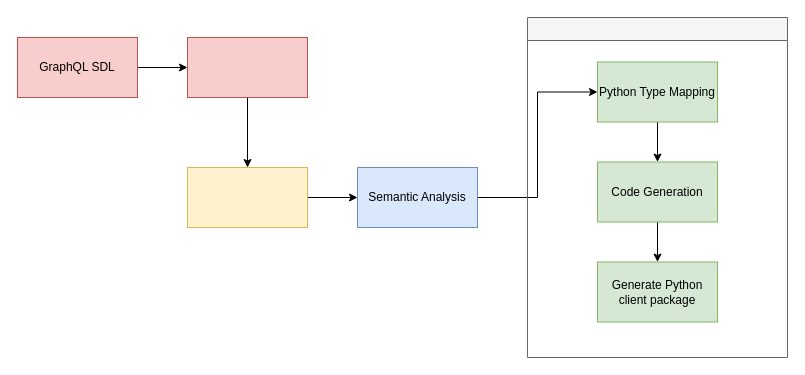
Image size: 805x375. Some labels were removed from this diagram. Here are the shapes that lost their labels. From the top down, the centre of each, then its label:
At pixel 247 67: "GraphQL Parser".
At pixel 247 197: "Custom IR (intermediate representation)".
At pixel 657 187: "Python Specific".
